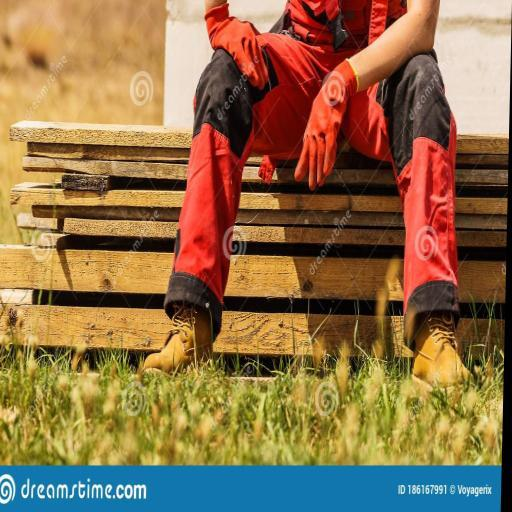safety_boots: (144, 299, 224, 374), (401, 322, 478, 399)
